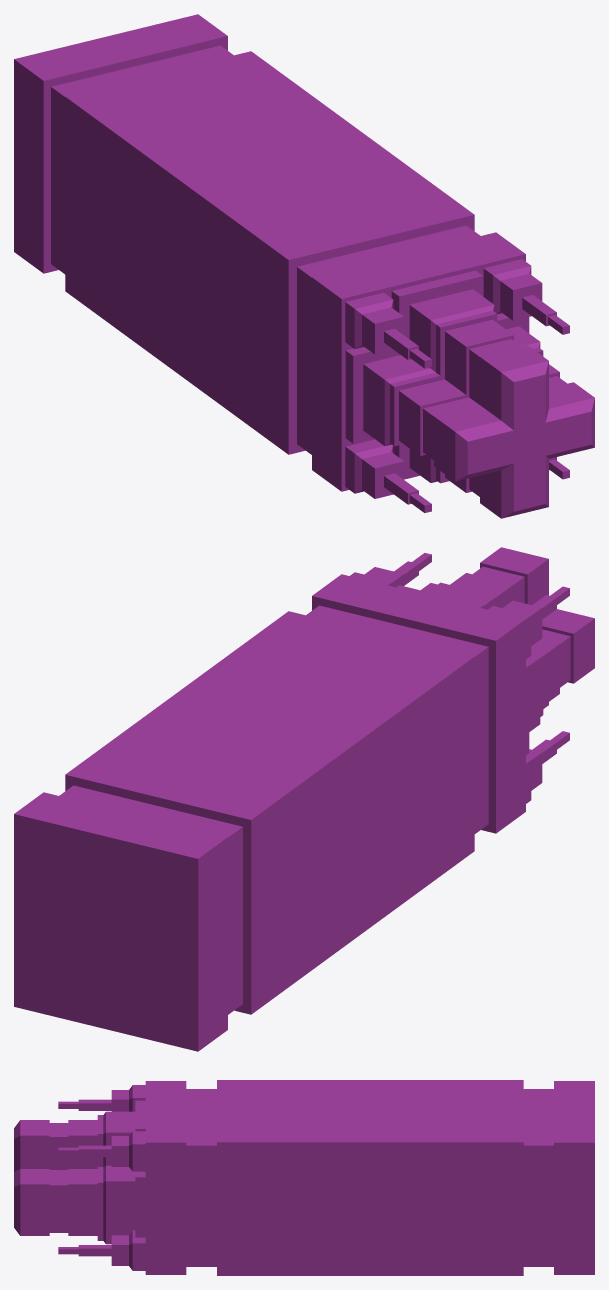
Rendered from building_02.obj.
3 renders of one model, top to bottom at view 1: azimuth 30°, elevation 25°; view 2: azimuth 150°, elevation 25°; view 3: azimuth 270°, elevation 25°, orthographic. The views are drawn at different scales.
Parts seen in each view (by area): view 1: Highrise_18; view 2: Highrise_18; view 3: Highrise_18.
Boxes of the visible parts, <box> form: Highrise_18: <box>14,14,594,518</box>; Highrise_18: <box>14,547,594,1051</box>; Highrise_18: <box>14,1080,594,1275</box>.
Bounding box in the file's own units: 1.55 × 1.55 × 6.12.
